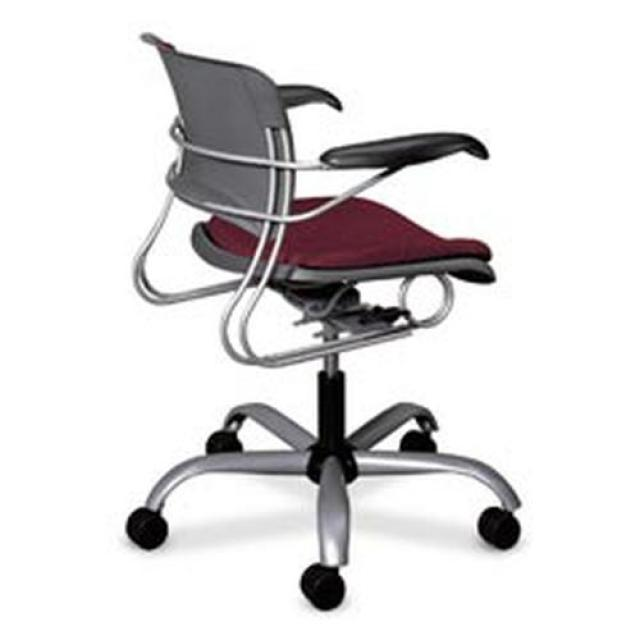swivelchair: (125, 33, 521, 613)
